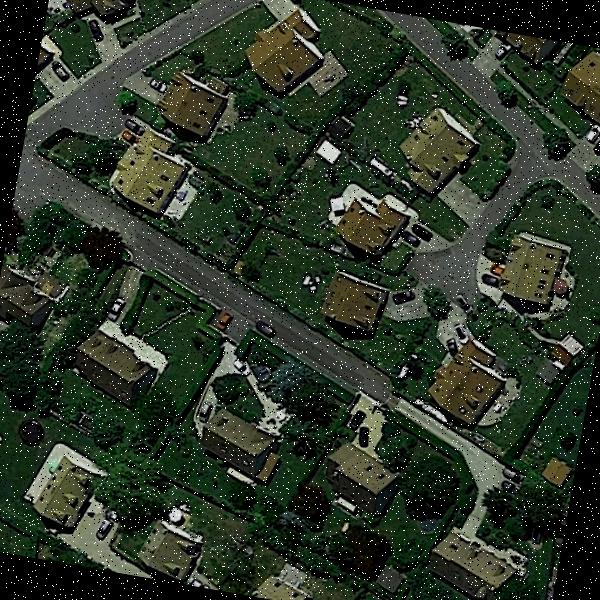Buildings: (425, 336, 519, 431), (187, 396, 290, 481), (320, 439, 409, 532), (128, 504, 220, 588), (396, 107, 484, 194), (108, 124, 186, 220), (421, 531, 523, 600), (0, 242, 68, 341), (70, 334, 154, 406), (498, 232, 570, 308), (322, 194, 408, 256), (247, 14, 320, 86), (39, 456, 98, 534), (555, 46, 600, 134), (322, 271, 386, 331), (162, 74, 224, 129), (248, 569, 320, 600), (52, 0, 154, 20)
